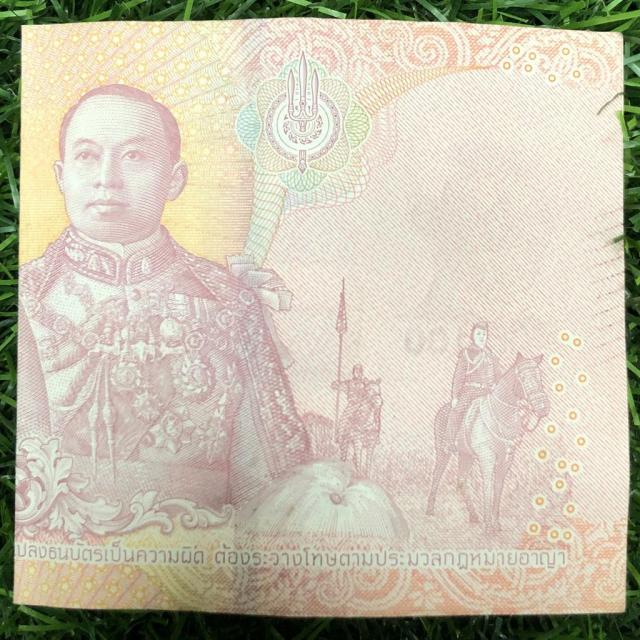THAI100: (14, 19, 628, 616)
